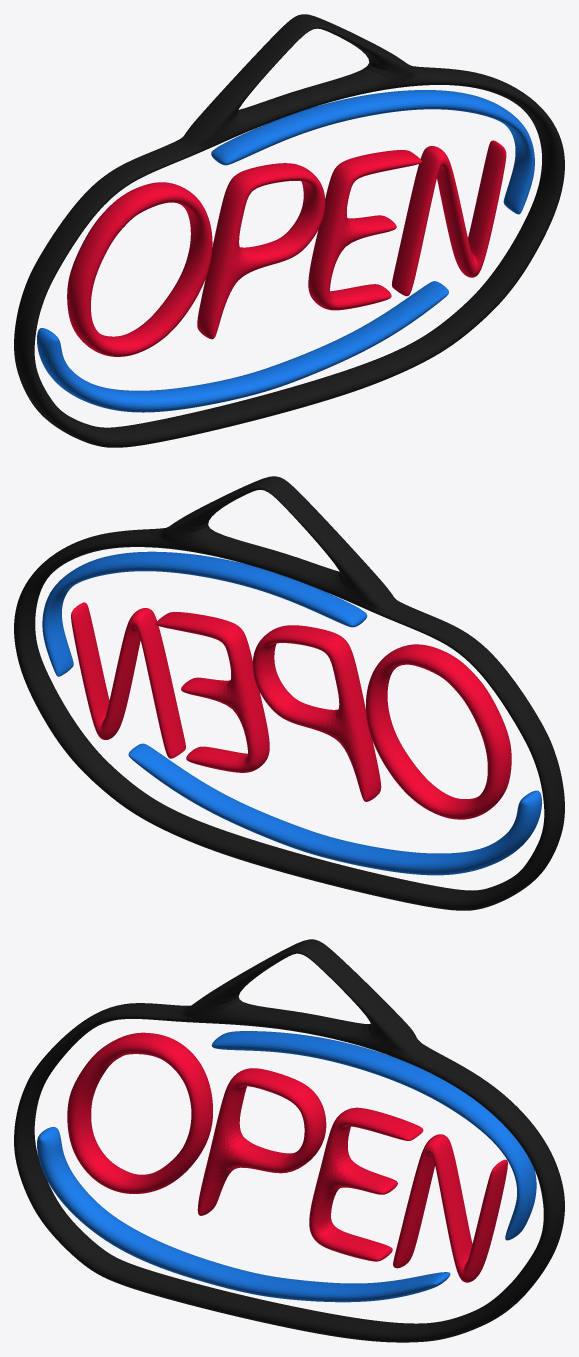
File: open_sign.gltf
3 views of the same model, one above another, from view 1: azimuth 30°, elevation 25°; view 2: azimuth 150°, elevation 25°; view 3: azimuth 330°, elevation 25° (orthographic).
Visible parts, largest first — view 1: OpenSign, OpenSignText, OpenSignBlueBackground; view 2: OpenSign, OpenSignText, OpenSignBlueBackground; view 3: OpenSign, OpenSignText, OpenSignBlueBackground.
Boxes of the visible parts, box(x1,y1,x2,y2) form: OpenSign: box(14, 14, 564, 447); OpenSignText: box(67, 140, 506, 356); OpenSignBlueBackground: box(37, 90, 534, 412); OpenSign: box(14, 476, 564, 910); OpenSignText: box(71, 602, 511, 819); OpenSignBlueBackground: box(42, 551, 541, 875); OpenSign: box(14, 939, 564, 1342); OpenSignText: box(67, 1032, 507, 1282); OpenSignBlueBackground: box(37, 1031, 536, 1302).
Bounding box in the file's own units: 1.11 × 0.7544 × 0.0612.
1 material, 1 textured.
